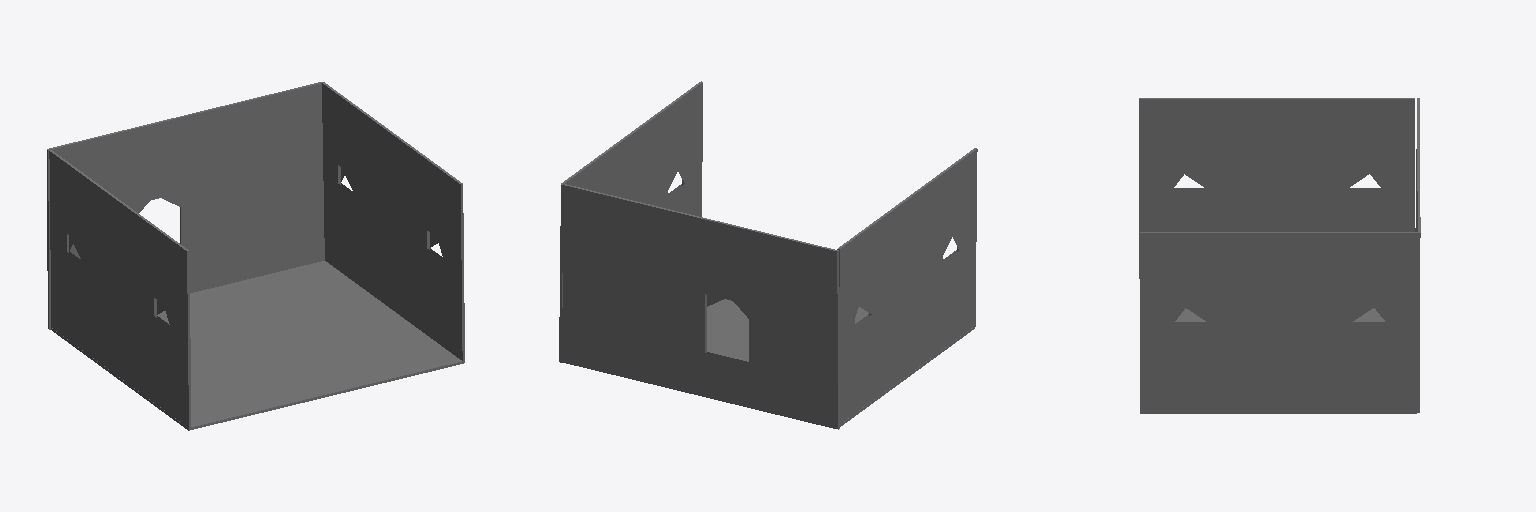
File: room2.obj
3 views of the same model, side by side, from view 1: azimuth 30°, elevation 25°; view 2: azimuth 150°, elevation 25°; view 3: azimuth 270°, elevation 25° (orthographic).
Visible parts, largest first — view 1: room2; view 2: room2; view 3: room2.
Part boxes in pixels (x1,y1,x2,y2): room2: (47, 82, 464, 430); room2: (559, 81, 977, 429); room2: (1139, 98, 1420, 413).
Size of the model in its own units: 31.83 by 19.66 by 27.82.